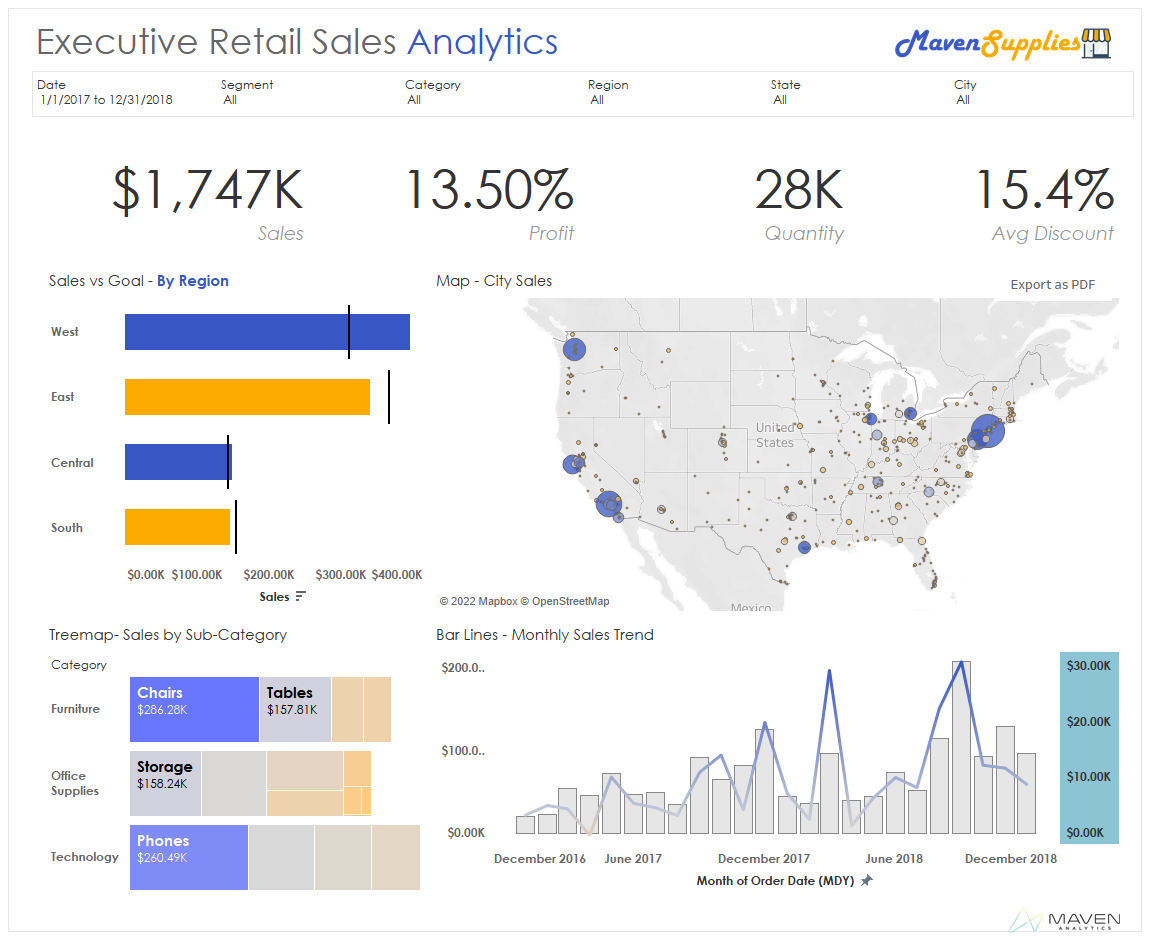

Layout of this report page (visuals, bound fields, positions):
{"tool":"tableau","page":{"name":"Executive Dashboard","canvas":[1150,940],"ordinal":0},"visuals":[{"type":"blank","box":[28,9,1108,57]},{"type":"text","box":[33,17,529,49]},{"type":"filter","title":"Treemap- Sales by Sub-Category","param":"[federated.0ji18sb1vwv7wf1aneo3e1r4y7l5].[none:Order Date (MDY):qk]","box":[33,72,184,44]},{"type":"filter","title":"Treemap- Sales by Sub-Category","param":"[federated.0ji18sb1vwv7wf1aneo3e1r4y7l5].[none:Segment:nk]","box":[217,72,184,44]},{"type":"filter","title":"Treemap- Sales by Sub-Category","param":"[federated.0ji18sb1vwv7wf1aneo3e1r4y7l5].[none:Category:nk]","box":[401,72,183,44]},{"type":"filter","title":"Treemap- Sales by Sub-Category","param":"[federated.0ji18sb1vwv7wf1aneo3e1r4y7l5].[none:Region:nk]","box":[584,72,183,44]},{"type":"filter","title":"Treemap- Sales by Sub-Category","param":"[federated.0ji18sb1vwv7wf1aneo3e1r4y7l5].[none:State:nk]","box":[767,72,183,44]},{"type":"filter","title":"Gantt Bars - Sales vs Goals","param":"[federated.0ji18sb1vwv7wf1aneo3e1r4y7l5].[none:City:nk]","box":[950,72,183,44]},{"type":"worksheet","title":"BAN - YTD Sales","mark":"Automatic","box":[41,141,271,120]},{"type":"worksheet","title":"BAN - YTD Profit","mark":"Automatic","box":[312,141,271,120]},{"type":"worksheet","title":"BAN - YTD Qty","mark":"Automatic","box":[583,141,270,120]},{"type":"worksheet","title":"BAN - YTD Avg Discount","mark":"Automatic","box":[853,141,270,120]},{"type":"worksheet","title":"Gantt Bars - Sales vs Goals","mark":"Automatic","rows":["Region"],"cols":["Sales","Goal"],"box":[41.2,260.5,386.8,354]},{"type":"worksheet","title":"Map - City Sales","mark":"Automatic","box":[428,260.5,695.4,354]},{"type":"dashboard-object","box":[994,266,118,35]},{"type":"worksheet","title":"Treemap- Sales by Sub-Category","mark":"Automatic","rows":["Category"],"box":[41.2,614.5,386.8,284]},{"type":"worksheet","title":"Bar Lines - Monthly Sales Trend","mark":"Bar","rows":["Sales","Profit"],"cols":["Order Date (MDY)"],"box":[428,614.5,695.4,284]},{"type":"image","param":"C:/Users/HT/Desktop/Maven Logo Small.png","box":[1008,907,112,32]}]}

Visuals, with their boxes in screenshot pixels (x1, y1, x2, y2), scaled from the page's 1150x940 canvas onto the 1150x940 screenshot:
blank: detection(28, 9, 1136, 66)
text: detection(33, 17, 562, 66)
"Treemap- Sales by Sub-Category" filter: detection(33, 72, 217, 116)
"Treemap- Sales by Sub-Category" filter: detection(217, 72, 401, 116)
"Treemap- Sales by Sub-Category" filter: detection(401, 72, 584, 116)
"Treemap- Sales by Sub-Category" filter: detection(584, 72, 767, 116)
"Treemap- Sales by Sub-Category" filter: detection(767, 72, 950, 116)
"Gantt Bars - Sales vs Goals" filter: detection(950, 72, 1133, 116)
"BAN - YTD Sales" worksheet: detection(41, 141, 312, 261)
"BAN - YTD Profit" worksheet: detection(312, 141, 583, 261)
"BAN - YTD Qty" worksheet: detection(583, 141, 853, 261)
"BAN - YTD Avg Discount" worksheet: detection(853, 141, 1123, 261)
"Gantt Bars - Sales vs Goals" worksheet: detection(41, 260, 428, 614)
"Map - City Sales" worksheet: detection(428, 260, 1123, 614)
dashboard-object: detection(994, 266, 1112, 301)
"Treemap- Sales by Sub-Category" worksheet: detection(41, 614, 428, 898)
"Bar Lines - Monthly Sales Trend" worksheet (Bar marks): detection(428, 614, 1123, 898)
image: detection(1008, 907, 1120, 939)
